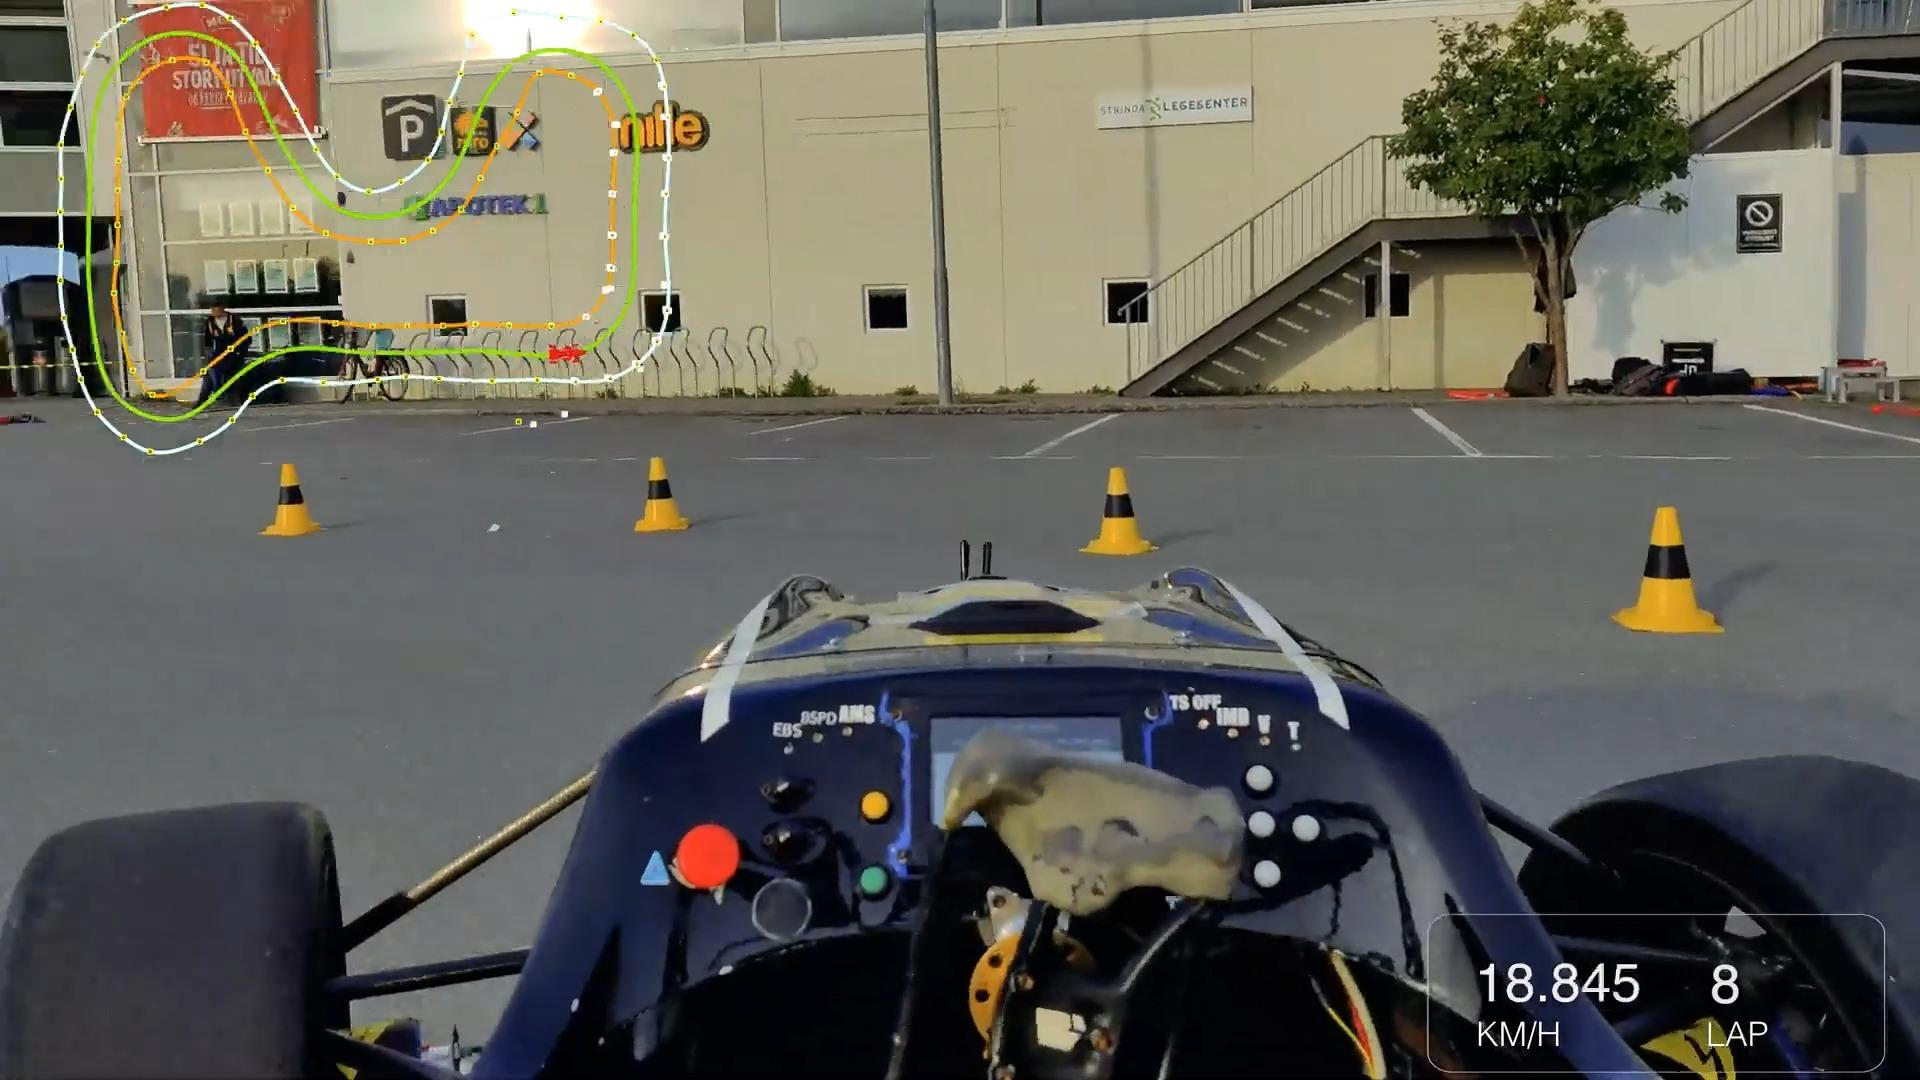yellow_cone: (1600, 495, 1734, 645), (1075, 456, 1162, 562), (248, 455, 330, 543), (625, 448, 696, 538)
